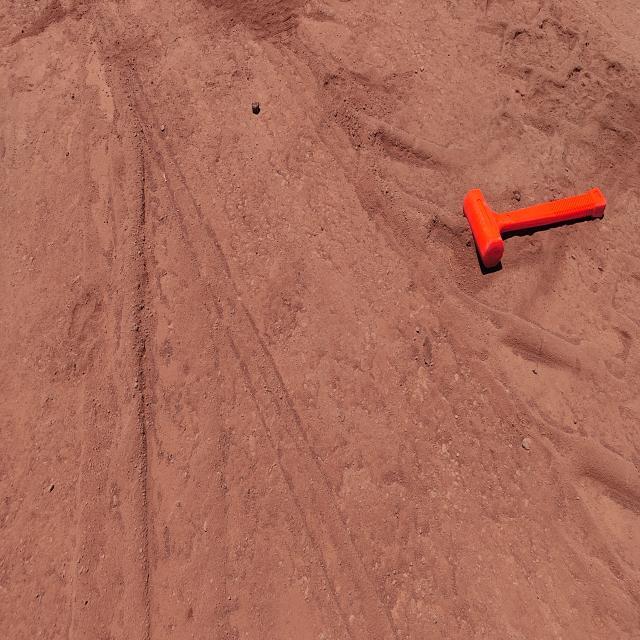Orange_hammer: (462, 184, 607, 269)
